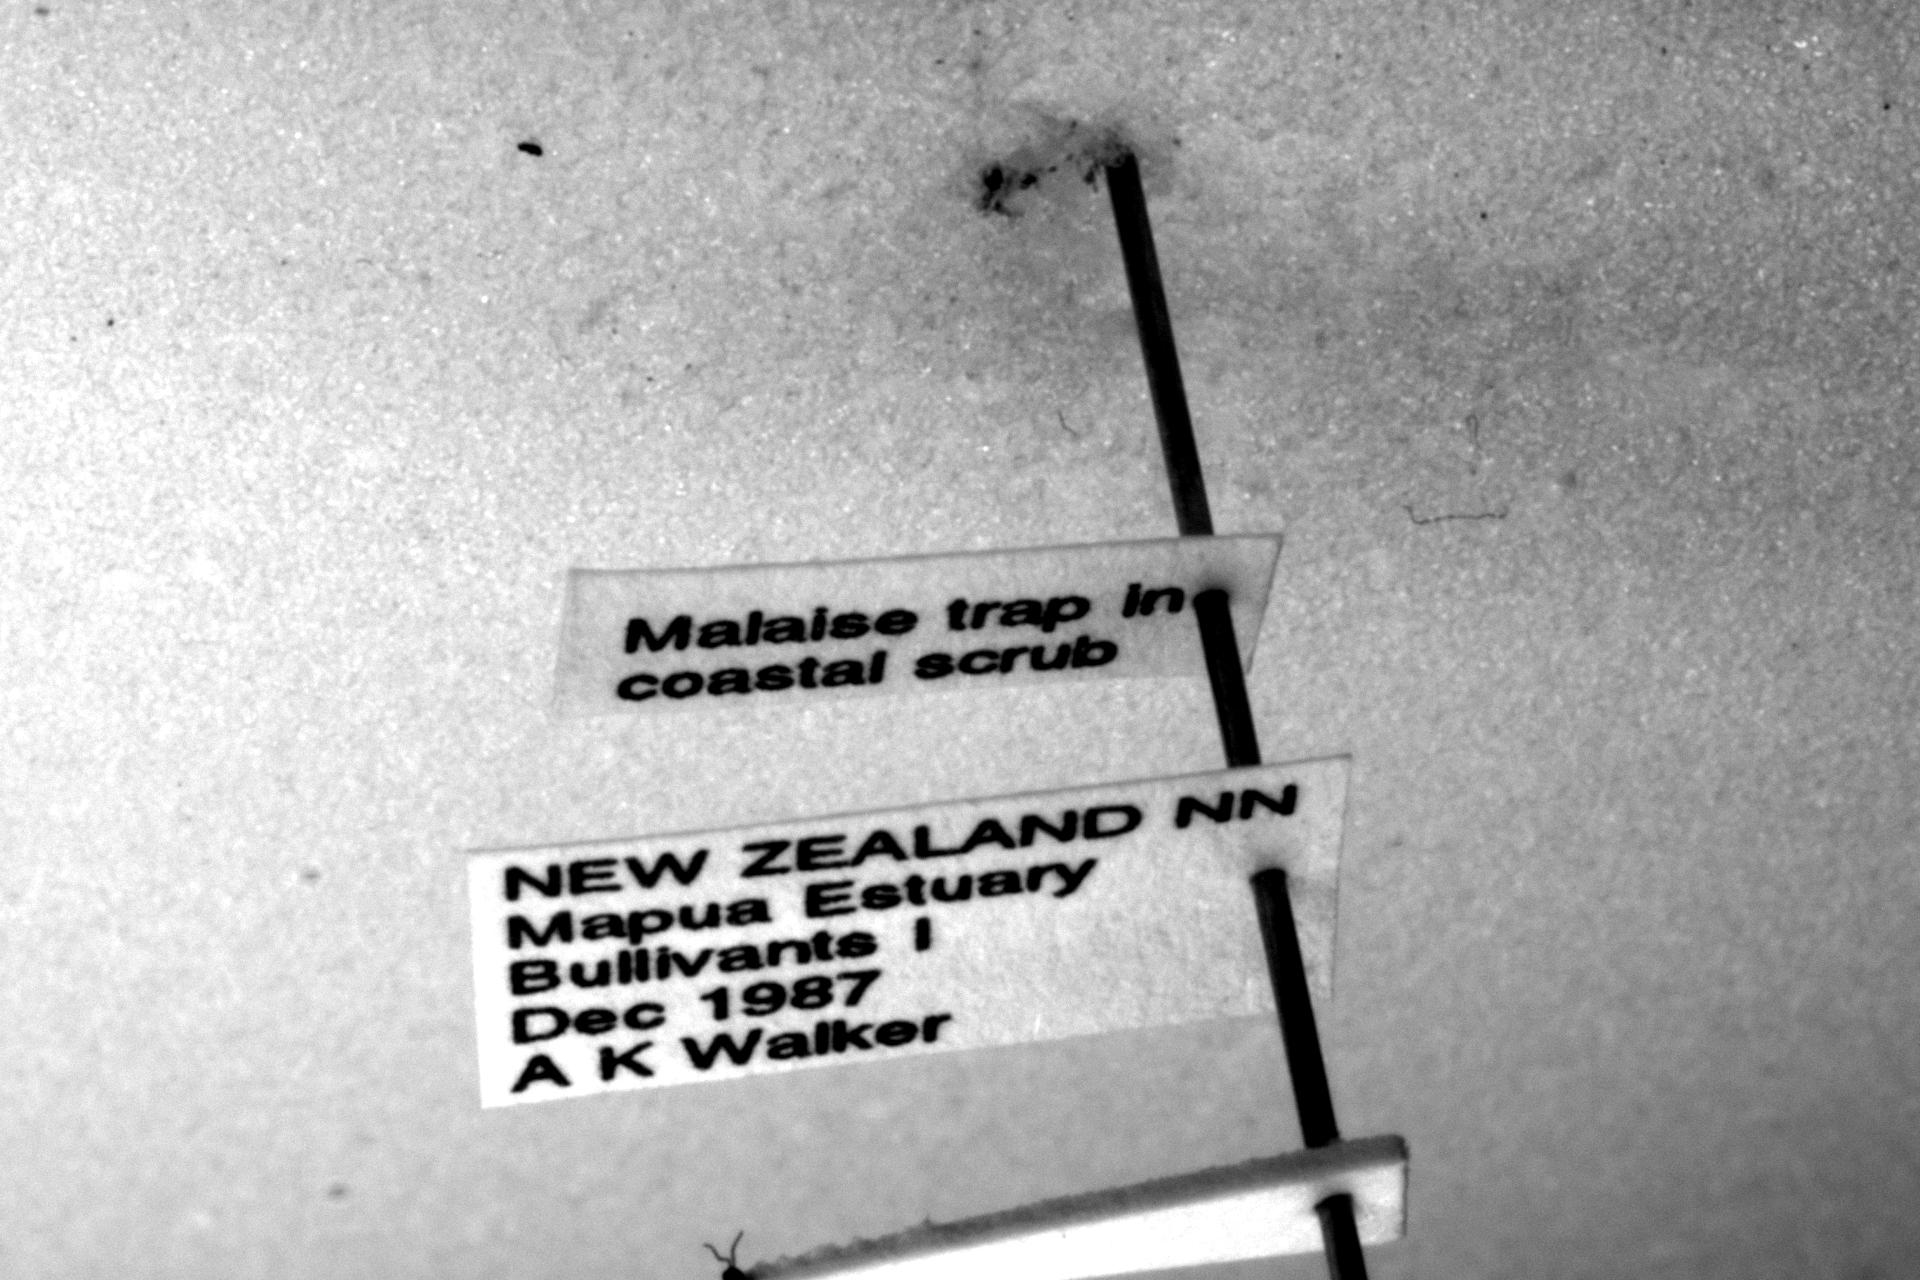typed_label: (469, 757, 1350, 1106), (554, 536, 1279, 716)
